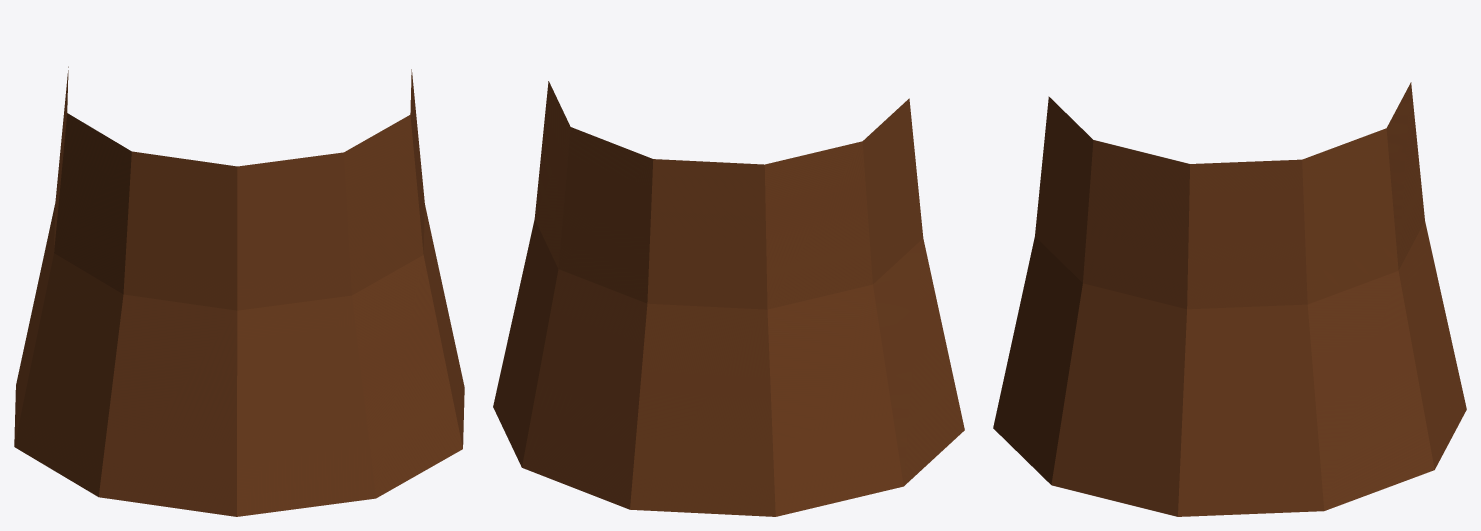
Rendered from nature_stump_pine.glb.
3 views of the same model, side by side, from view 1: azimuth 30°, elevation 25°; view 2: azimuth 150°, elevation 25°; view 3: azimuth 270°, elevation 25° (orthographic).
Visible parts, largest first — view 1: world; view 2: world; view 3: world.
Part boxes in pixels (x1=…): world: x1=14, y1=66, x2=464, y2=516; world: x1=493, y1=81, x2=964, y2=516; world: x1=993, y1=82, x2=1466, y2=516.
Bounding box in the file's own units: 1.96 × 1.54 × 2.
Materials: 2 (1 with a texture image).
